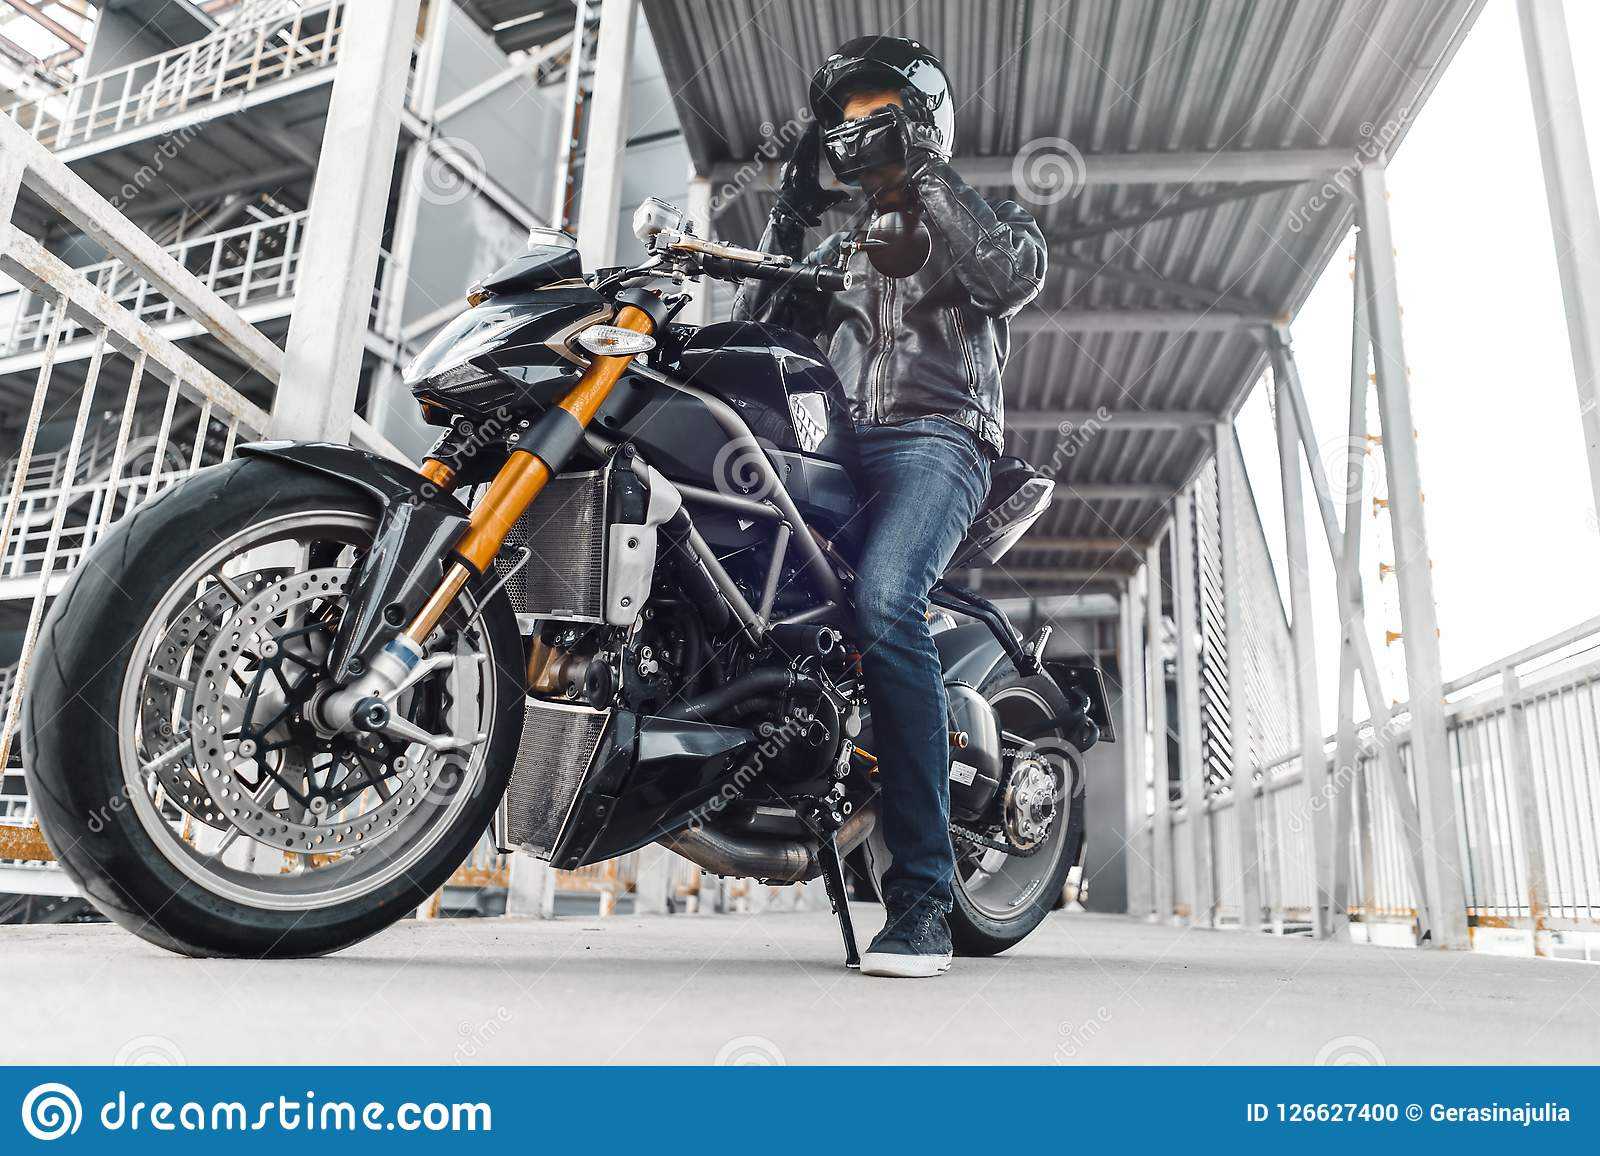helmet: (812, 38, 953, 170)
